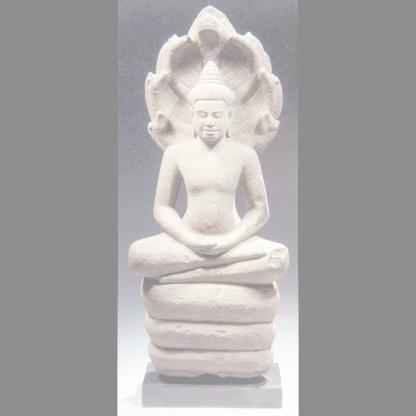buddha-sitting: (128, 2, 284, 376)
